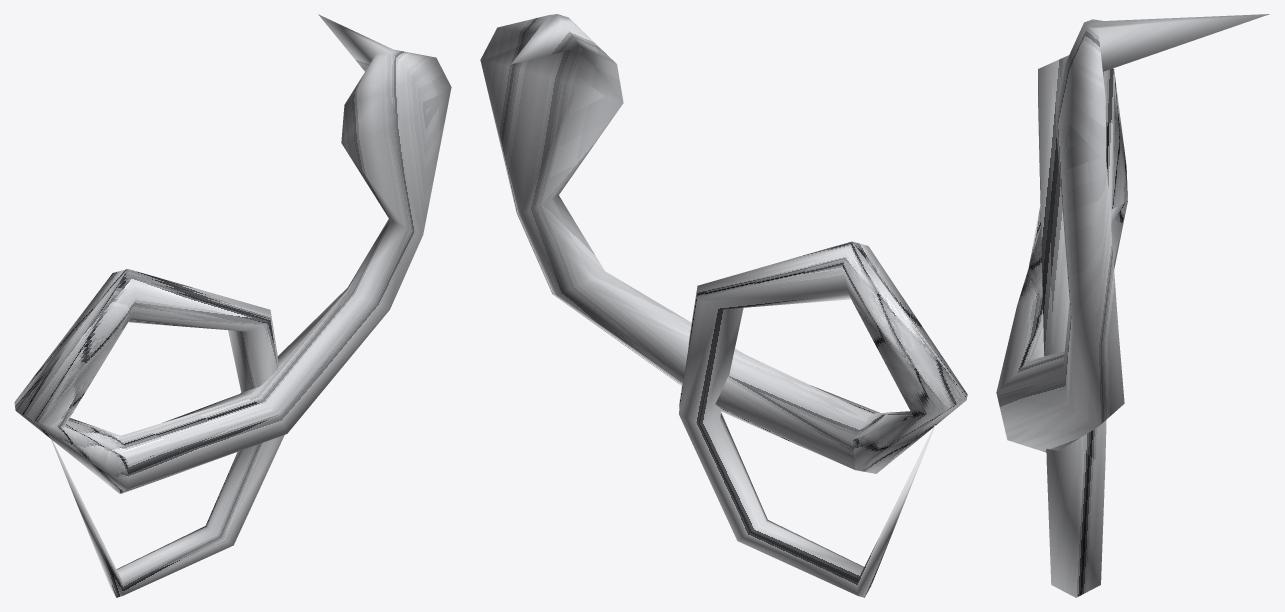
File: snake_000062.obj
The picture shows the model from 3 angles, left to right: view 1: azimuth 30°, elevation 25°; view 2: azimuth 150°, elevation 25°; view 3: azimuth 270°, elevation 25°; orthographic projection. The views are drawn at different scales.
Visible parts, largest first — view 1: Cylinder; view 2: Cylinder; view 3: Cylinder.
Part boxes in pixels (<box>): Cylinder: <box>14,14,451,597</box>; Cylinder: <box>480,14,967,597</box>; Cylinder: <box>996,14,1269,597</box>.
Bounding box in the file's own units: 3.46 × 3.54 × 1.19.
